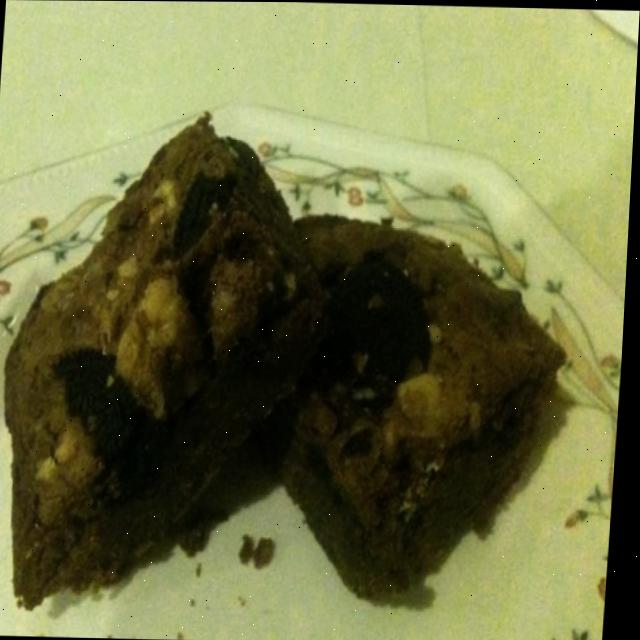蛋糕甜品: (0, 78, 606, 640)
